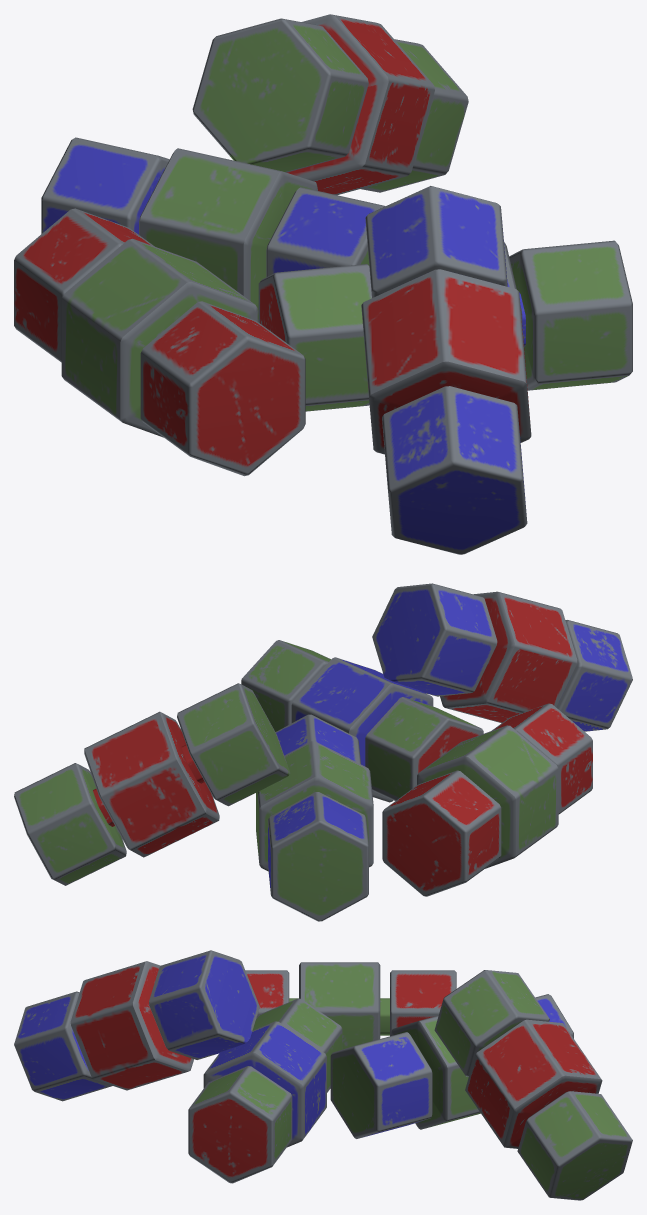
The model's file is SM_Props_47.fbx.
3 renders of one model, top to bottom at view 1: azimuth 30°, elevation 25°; view 2: azimuth 150°, elevation 25°; view 3: azimuth 270°, elevation 25°, orthographic. The views are drawn at different scales.
Parts seen in each view (by area): view 1: SM_Props_47; view 2: SM_Props_47; view 3: SM_Props_47.
Boxes of the visible parts, x1,y1,x2,y2 form: SM_Props_47: (14, 14, 632, 554); SM_Props_47: (14, 583, 632, 921); SM_Props_47: (14, 950, 632, 1200).
Size of the model in its own units: 53.52 by 80.04 by 25.13.
1 material, 1 textured.
